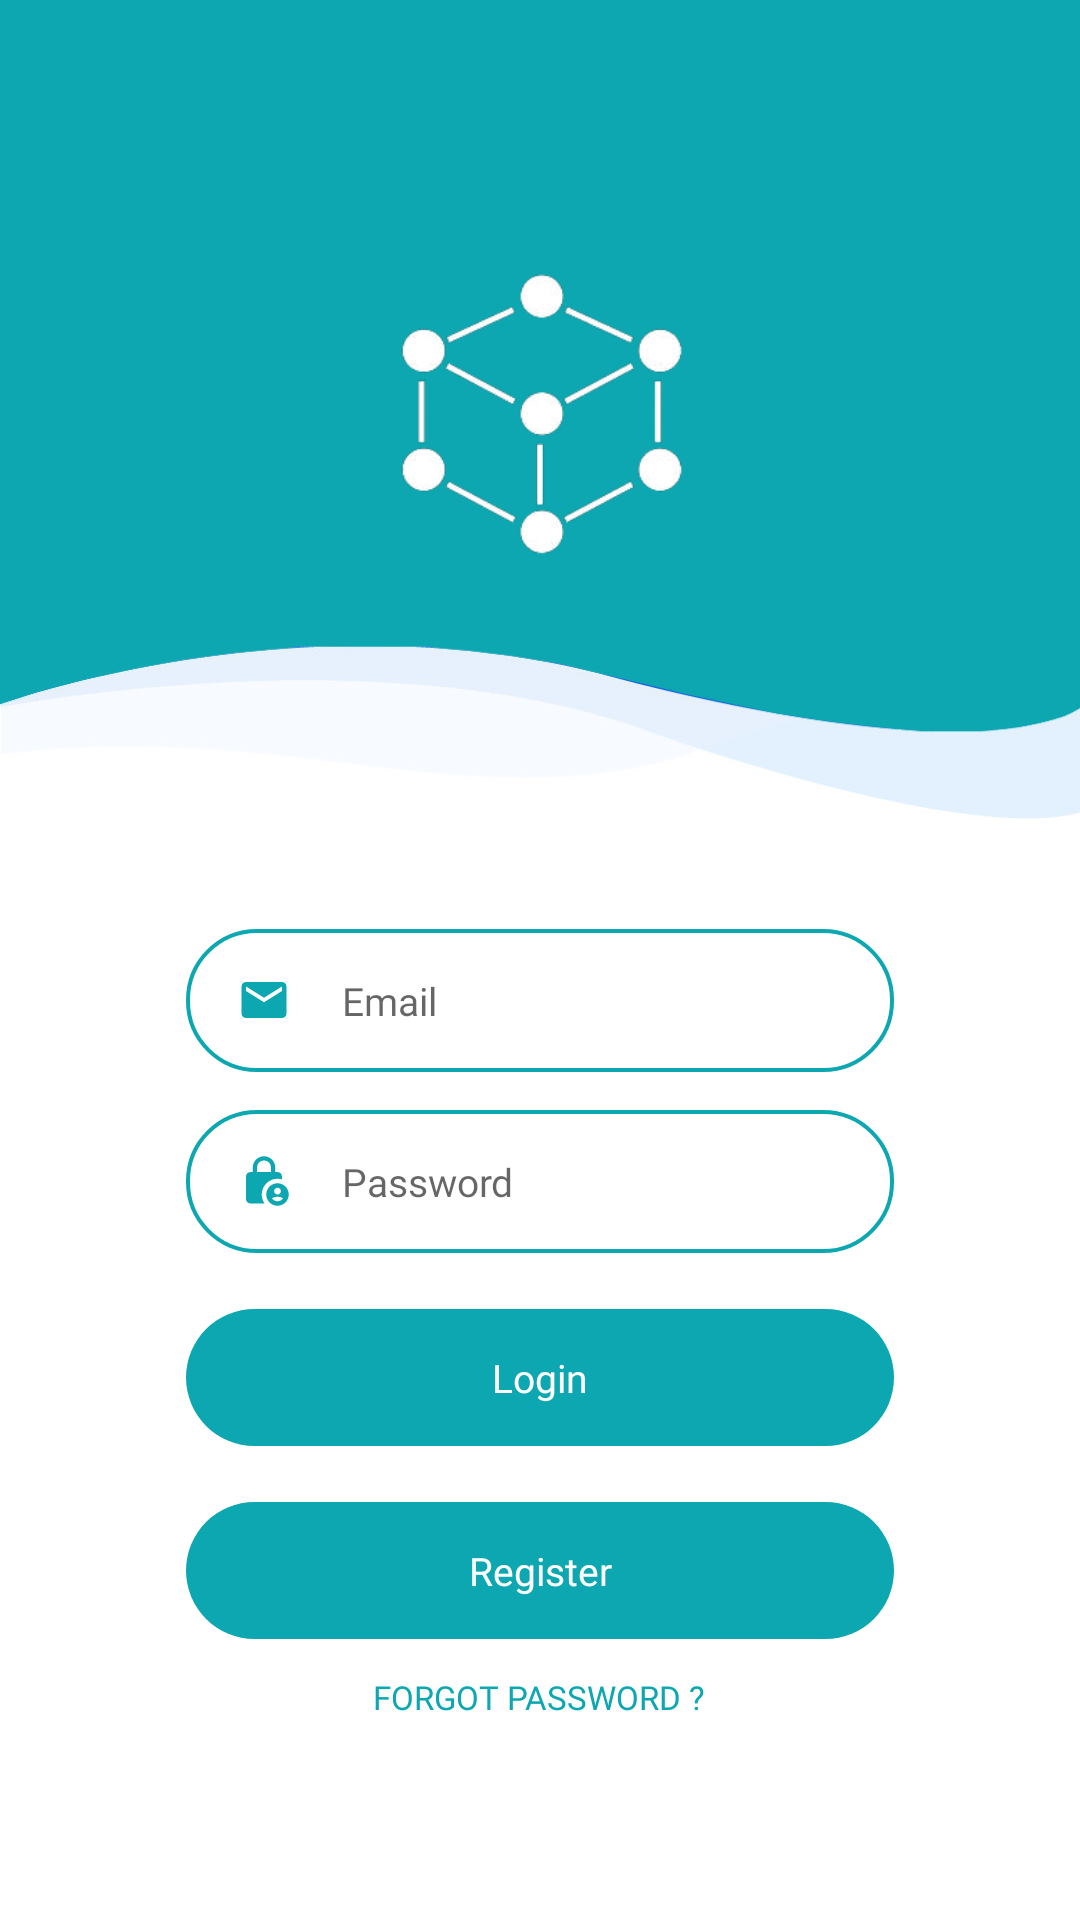

Icons on this 1080w x 1920h Android screen, each with the point to tap as point (x, y):
lock person: point (267, 1181)
